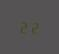two: (29, 19, 38, 34), (19, 19, 28, 33)
